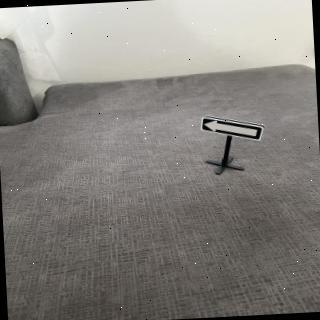sign_oneway_left: (199, 112, 268, 147)
